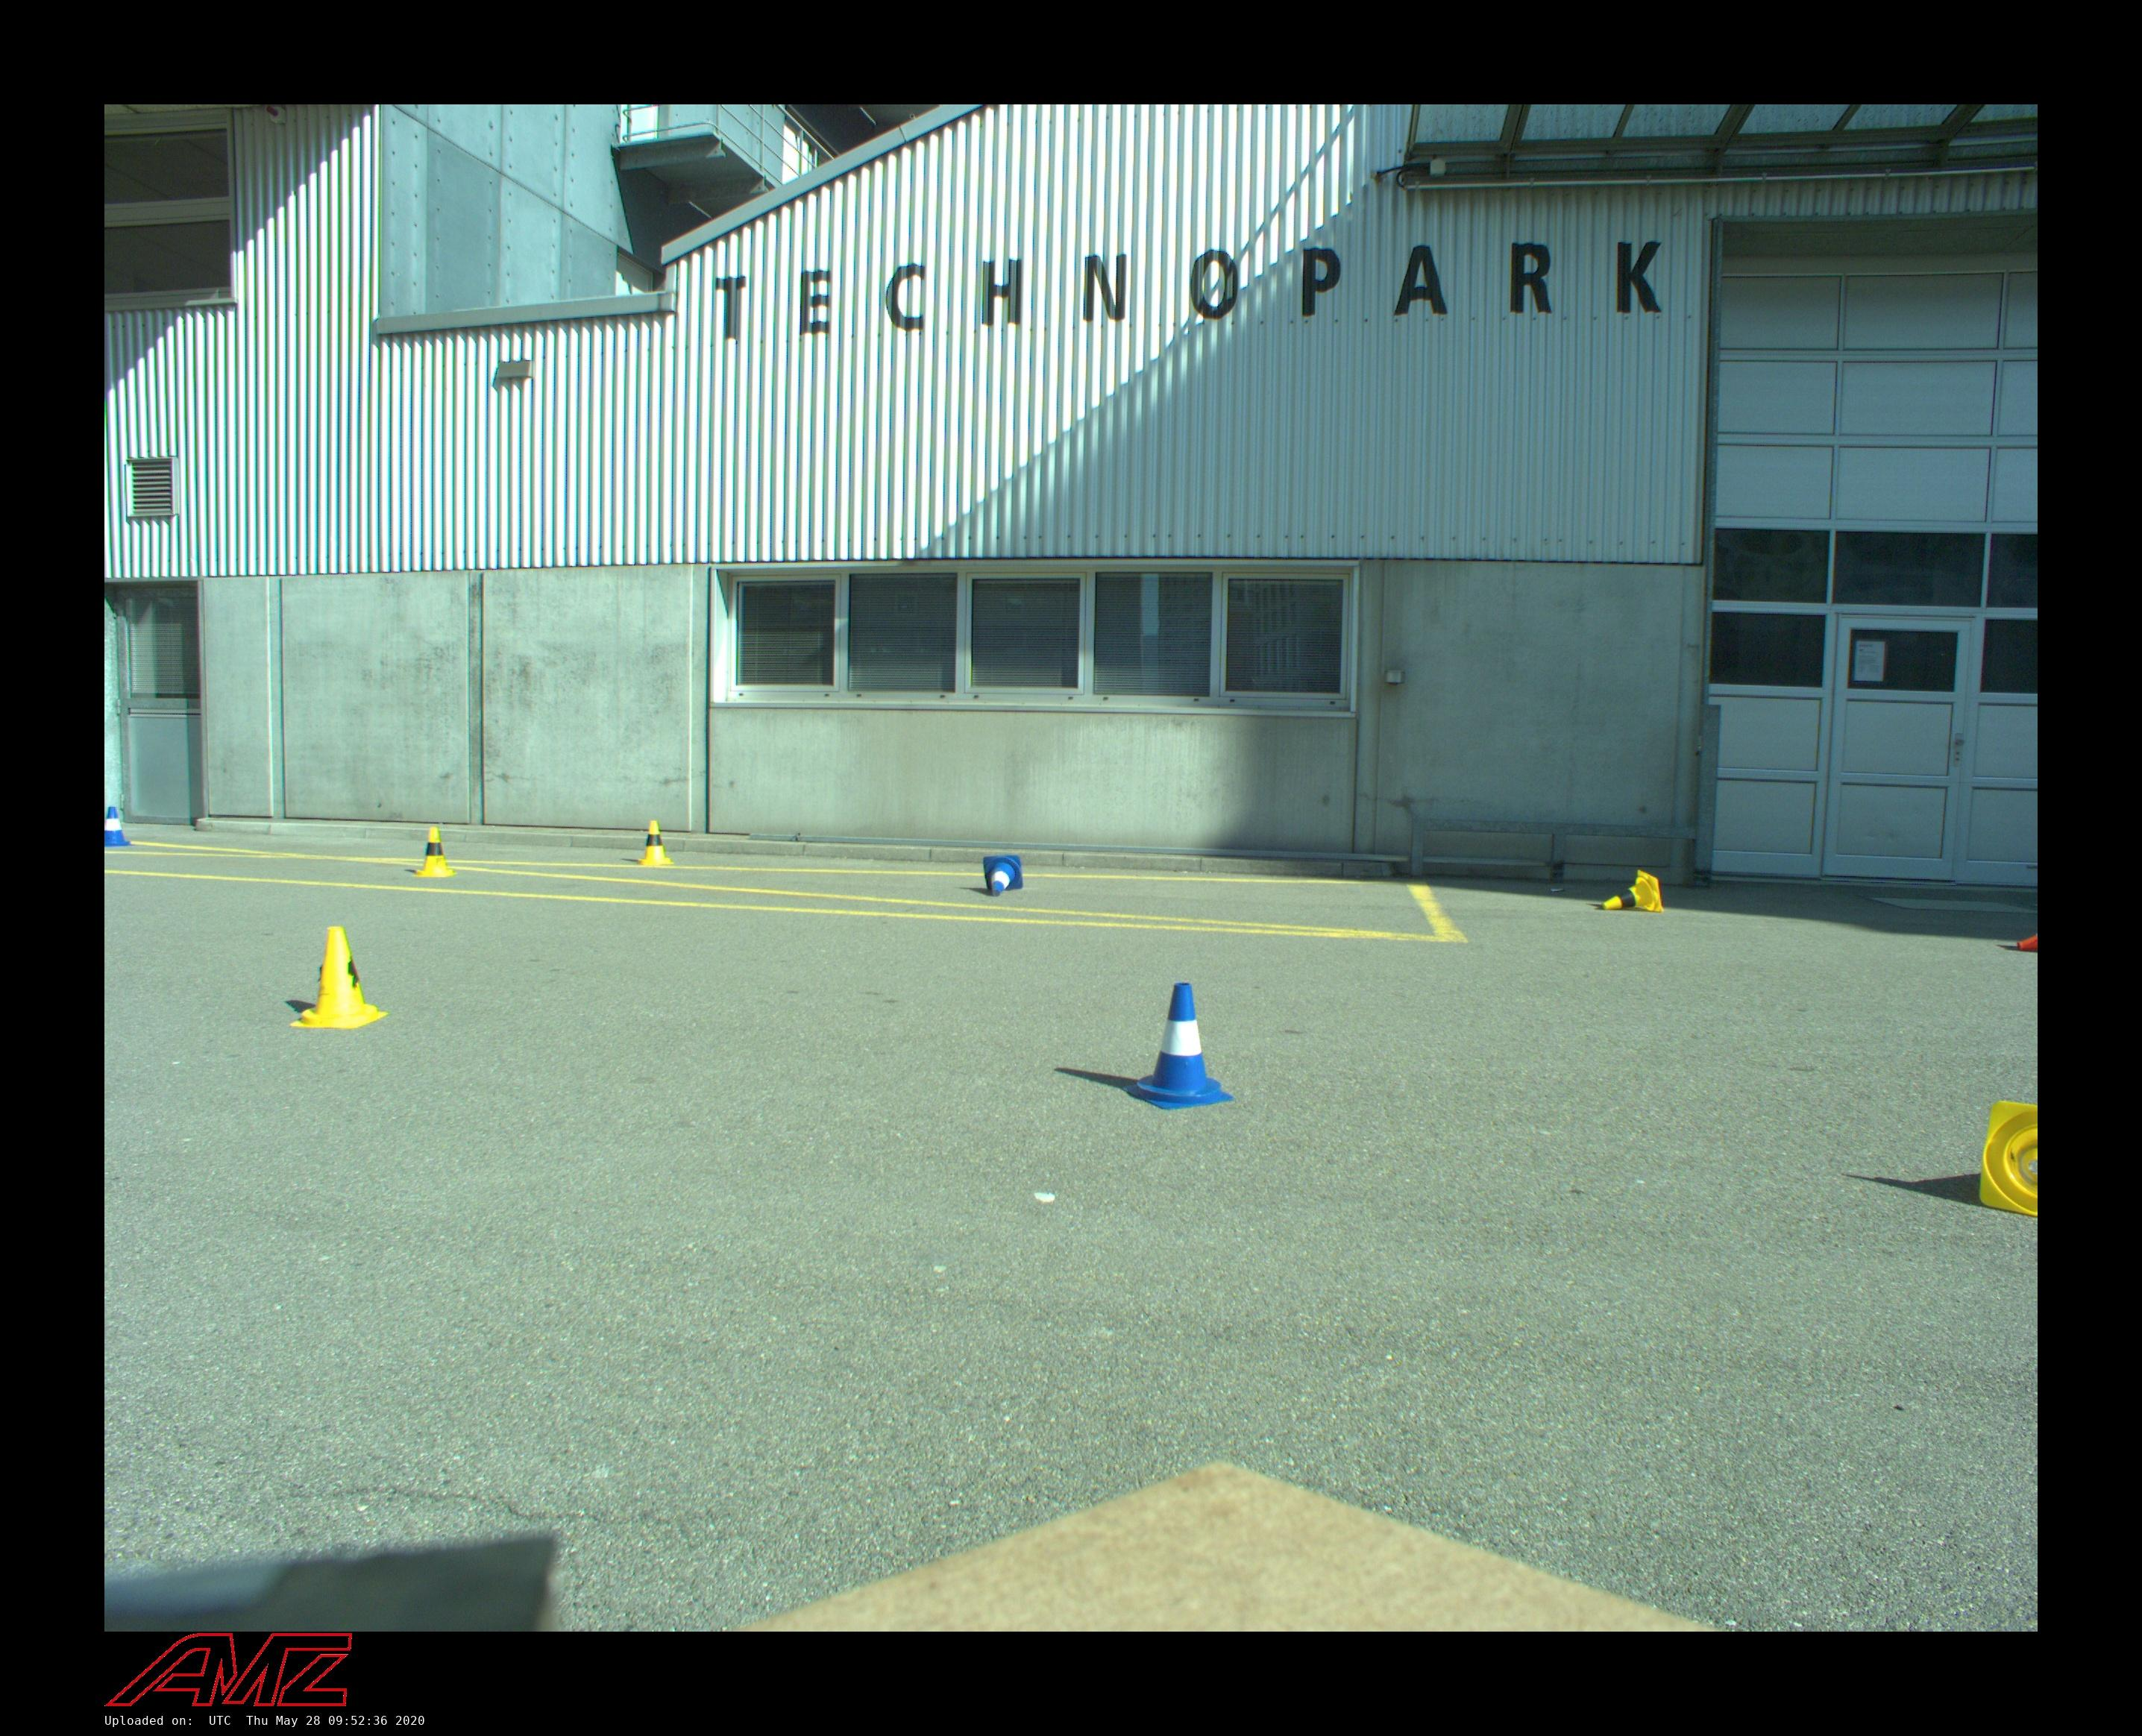blue_cone: (1123, 981, 1235, 1111), (983, 854, 1024, 896), (105, 806, 129, 847)
yellow_cone: (291, 926, 388, 1029), (1602, 870, 1662, 912), (413, 827, 457, 877), (638, 820, 673, 864)
